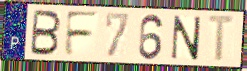6: (137, 12, 165, 62)
7: (104, 11, 130, 59)
B: (28, 9, 63, 58)
F: (62, 10, 100, 59)
N: (169, 14, 203, 62)
T: (206, 14, 238, 64)
